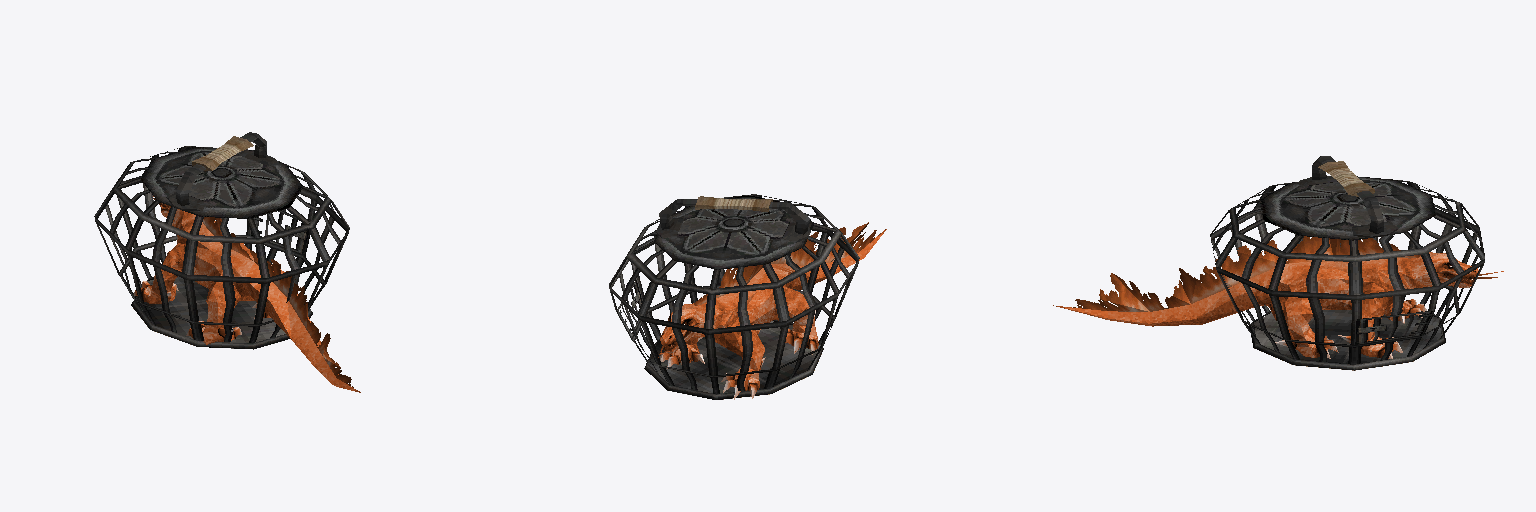
3 renders of one model, left to right at view 1: azimuth 30°, elevation 25°; view 2: azimuth 150°, elevation 25°; view 3: azimuth 270°, elevation 25°, orthographic.
Parts seen in each view (by area): view 1: material_0, material_1, material_2; view 2: material_0, material_1, material_2; view 3: material_0, material_1, material_2.
Boxes of the visible parts, x1,y1,x2,y2 form: material_0: [94, 132, 349, 349]; material_1: [134, 196, 360, 392]; material_2: [203, 217, 353, 387]; material_0: [609, 194, 859, 399]; material_1: [658, 229, 886, 399]; material_2: [694, 222, 876, 305]; material_0: [1210, 156, 1484, 370]; material_1: [1053, 252, 1503, 358]; material_2: [1073, 236, 1420, 311].
Bounding box in the file's own units: 180 × 139 × 358.
3 materials, 3 textured.